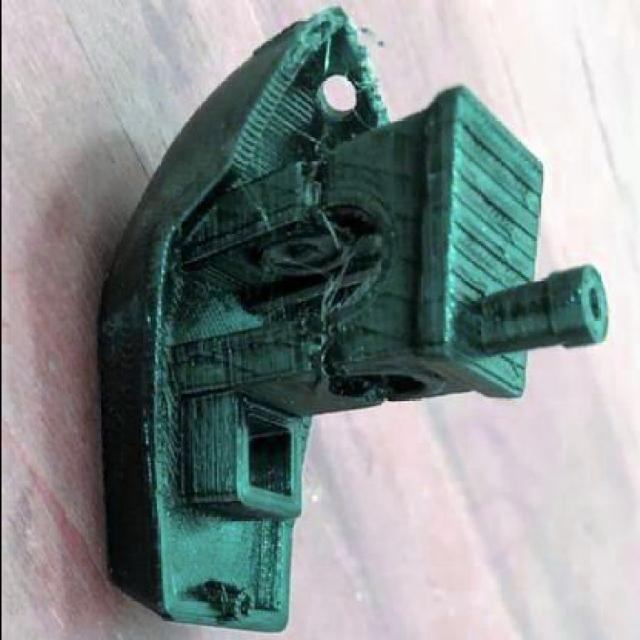spaghetti: (304, 194, 363, 320)
